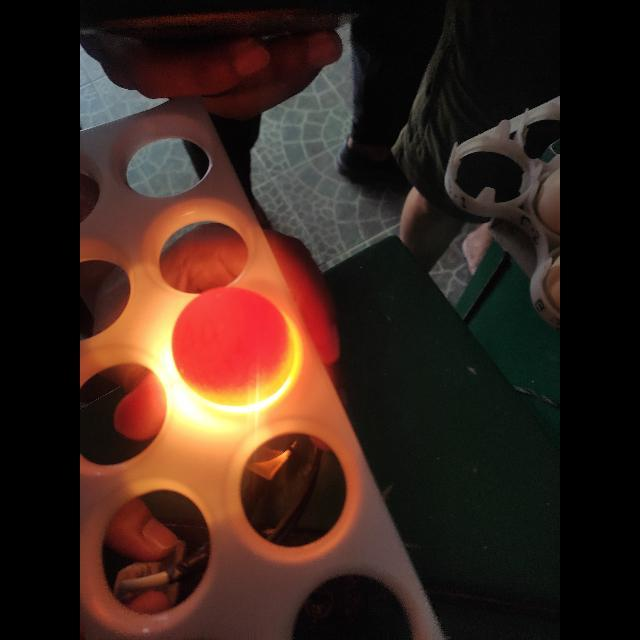Infertile: (170, 280, 302, 414)
